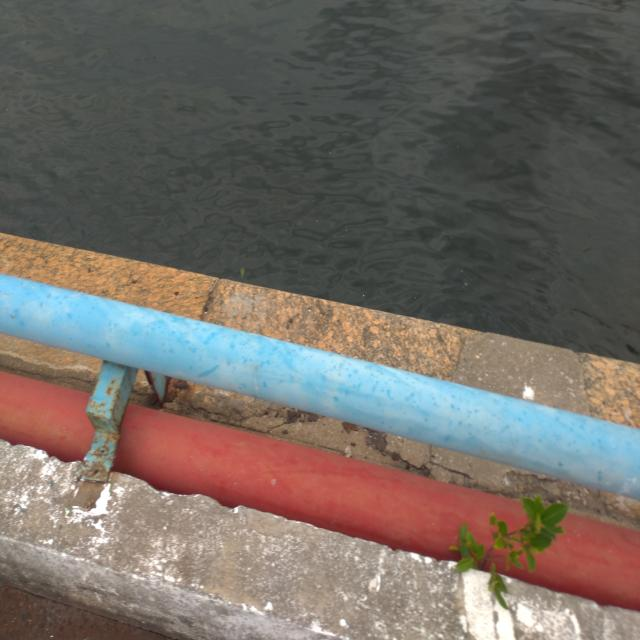gas: (1, 371, 640, 610), (3, 274, 640, 497)
